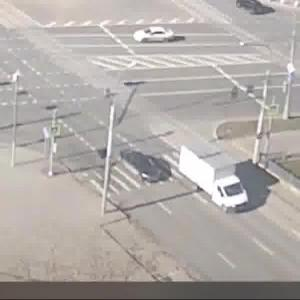car: (177, 141, 253, 219), (114, 151, 164, 188), (130, 25, 188, 47), (227, 1, 271, 18)
